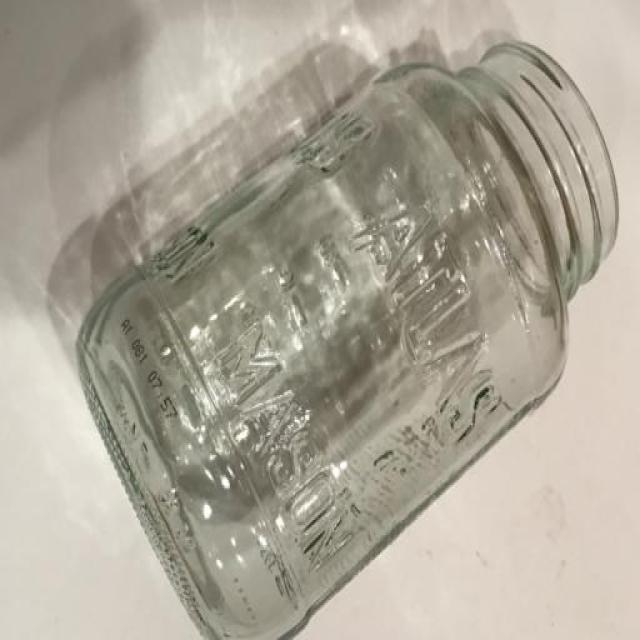glass: (75, 42, 617, 636)
